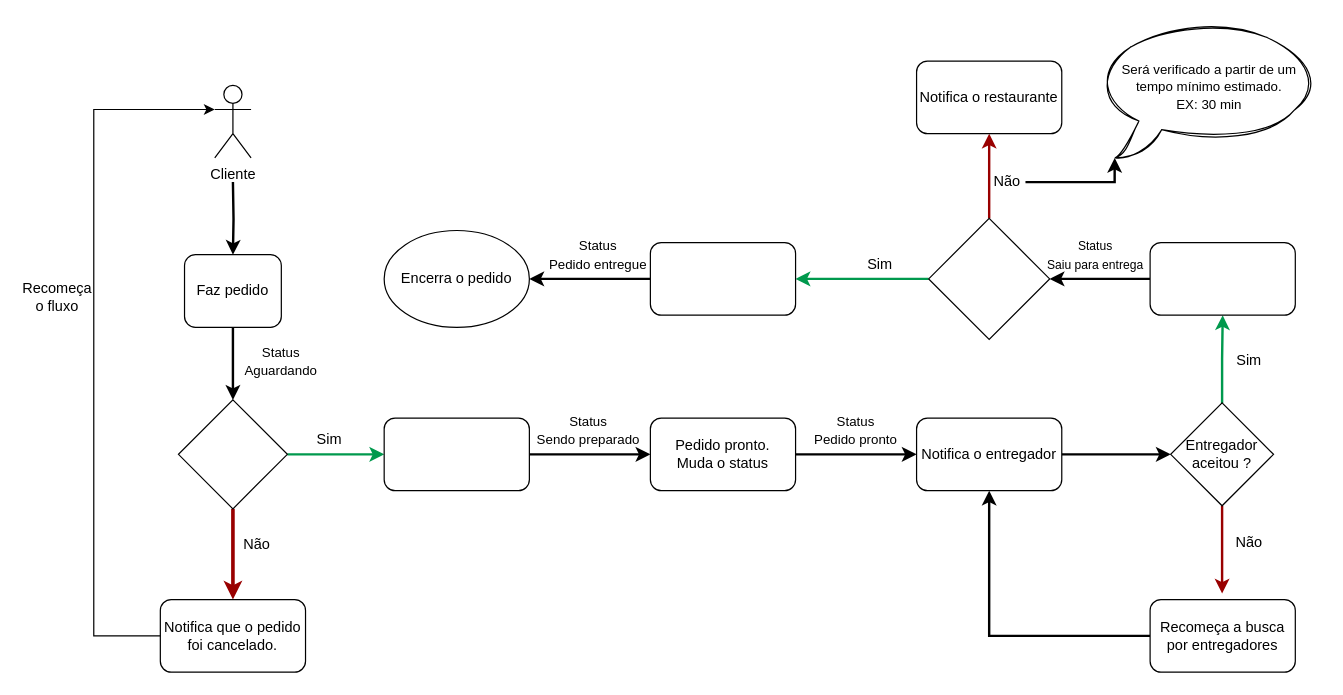
Some shapes in this 1343 by 695 pixel diagram are drawn without their labels. The shapes that lost their labels are listed below. From the top down, each one's centre as x and y in pixels, then its label:
At pixel 722 278: "Muda o status".
At pixel 988 278: "Entregador fez a entrega ?".
At pixel 1222 278: "Muda o status do pedido".
At pixel 232 454: "Restaurante aceitou ?".
At pixel 456 454: "Confirma o pedido e muda o status.".
